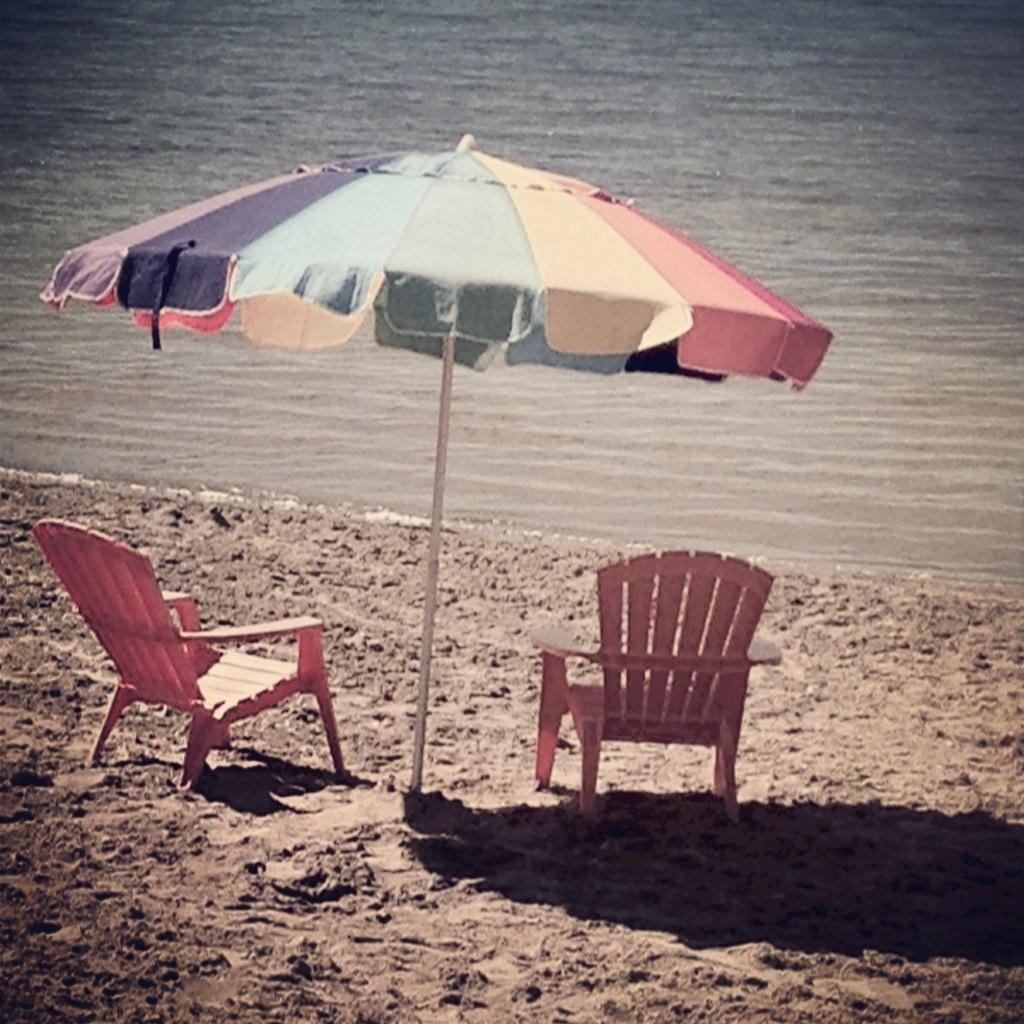Chair: (29, 517, 348, 785), (504, 538, 782, 840)
